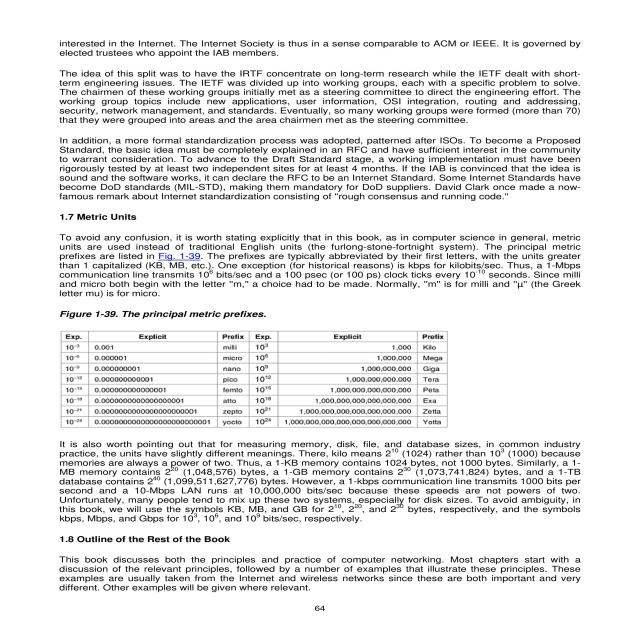diagram: (25, 302, 490, 433)
